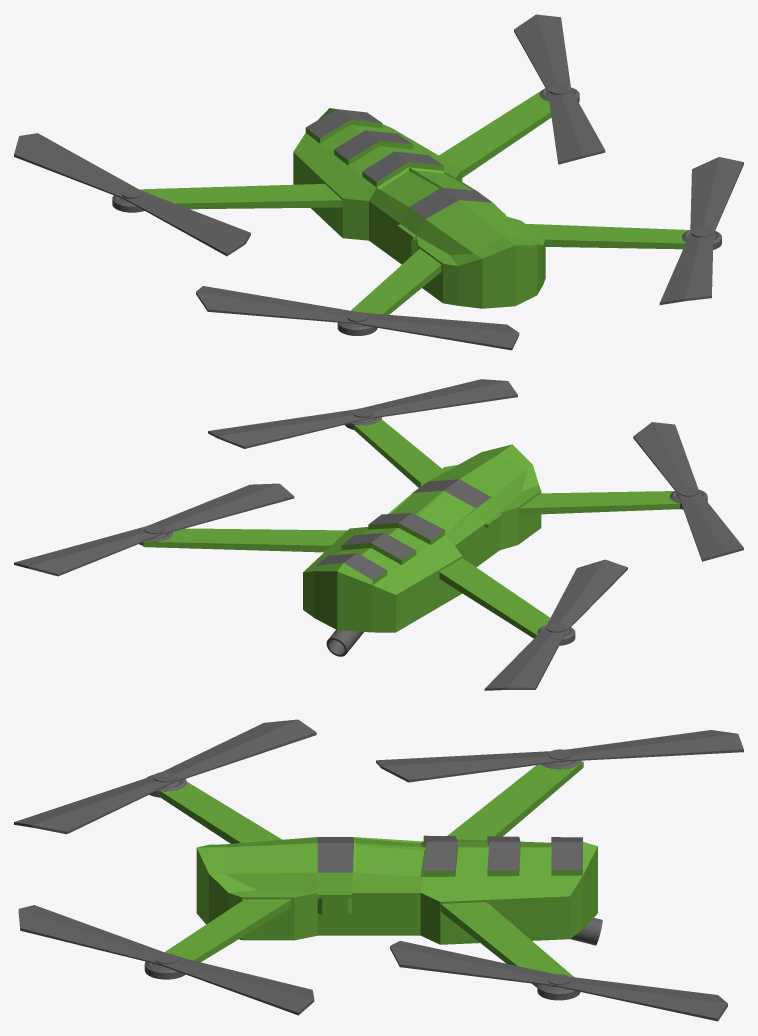
The model's file is drone green.fbx.
3 renders of one model, top to bottom at view 1: azimuth 30°, elevation 25°; view 2: azimuth 150°, elevation 25°; view 3: azimuth 270°, elevation 25°, orthographic. The views are drawn at different scales.
Visible parts, largest first — view 1: base, blade 2, blade 4, blade 3, blade 1; view 2: base, blade 1, blade 3, blade 4, blade 2; view 3: base, blade 4, blade 3, blade 2, blade 1.
Boxes of the visible parts, x1,y1,x2,y2 form: base: (112, 84, 721, 335); blade 2: (196, 286, 519, 350); blade 4: (14, 133, 250, 256); blade 3: (514, 14, 605, 164); blade 1: (659, 157, 743, 304); base: (139, 408, 707, 656); blade 1: (208, 379, 517, 448); blade 3: (14, 483, 294, 576); blade 4: (484, 559, 627, 690); blade 2: (633, 422, 743, 561); base: (144, 749, 602, 1000); blade 4: (376, 730, 743, 782); blade 3: (390, 941, 727, 1021); blade 2: (14, 719, 316, 834); blade 1: (18, 905, 314, 1015).
Bounding box in the file's own units: 1312 × 211 × 1363.
